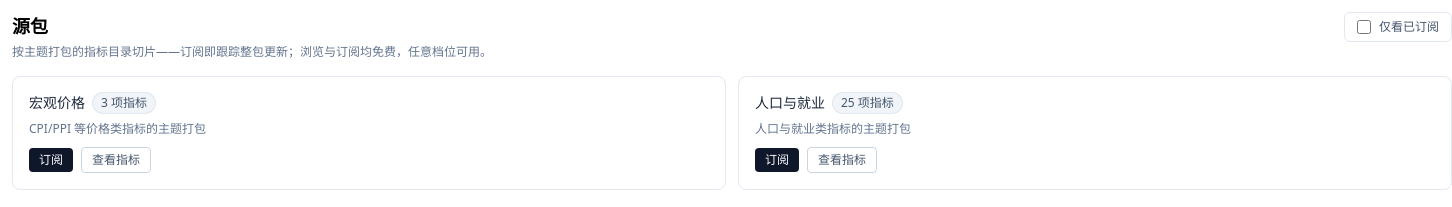
Test: PacksPage（源包 · 卡片墙 + 订阅） › 订阅切换：按钮即时刷新徽标（POST subscribe → DELETE unsubscribe）
The width and height of the screenshot is (1452, 207).
What coordinates should you click on to do the following:
click the button with test id "pack-toggle-subscribe" below "3 项指标"
I would click on:
 (51, 160)
Its box is [29,148,73,172].
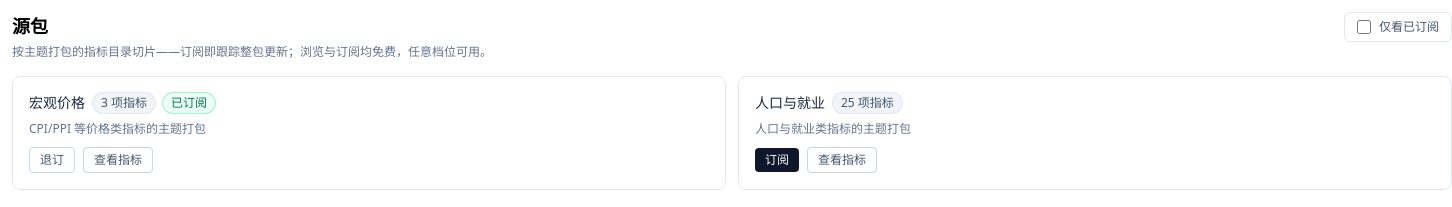
Expected: the number of elements with test id "pack-subscribed-badge" is 1, [163,93,215,113]
What coordinates should you click on to do the following:
click the button with test id "pack-toggle-subscribe"
I would click on:
 (52, 160)
Its box is [29,146,75,172].
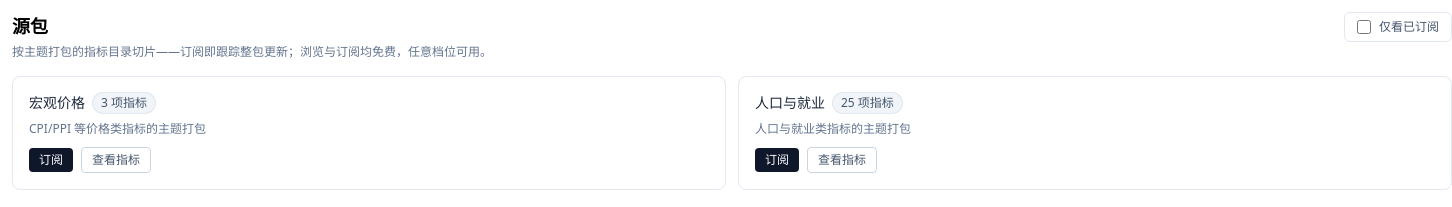
Expected: the text with test id "pack-subscribed-badge" is gone
